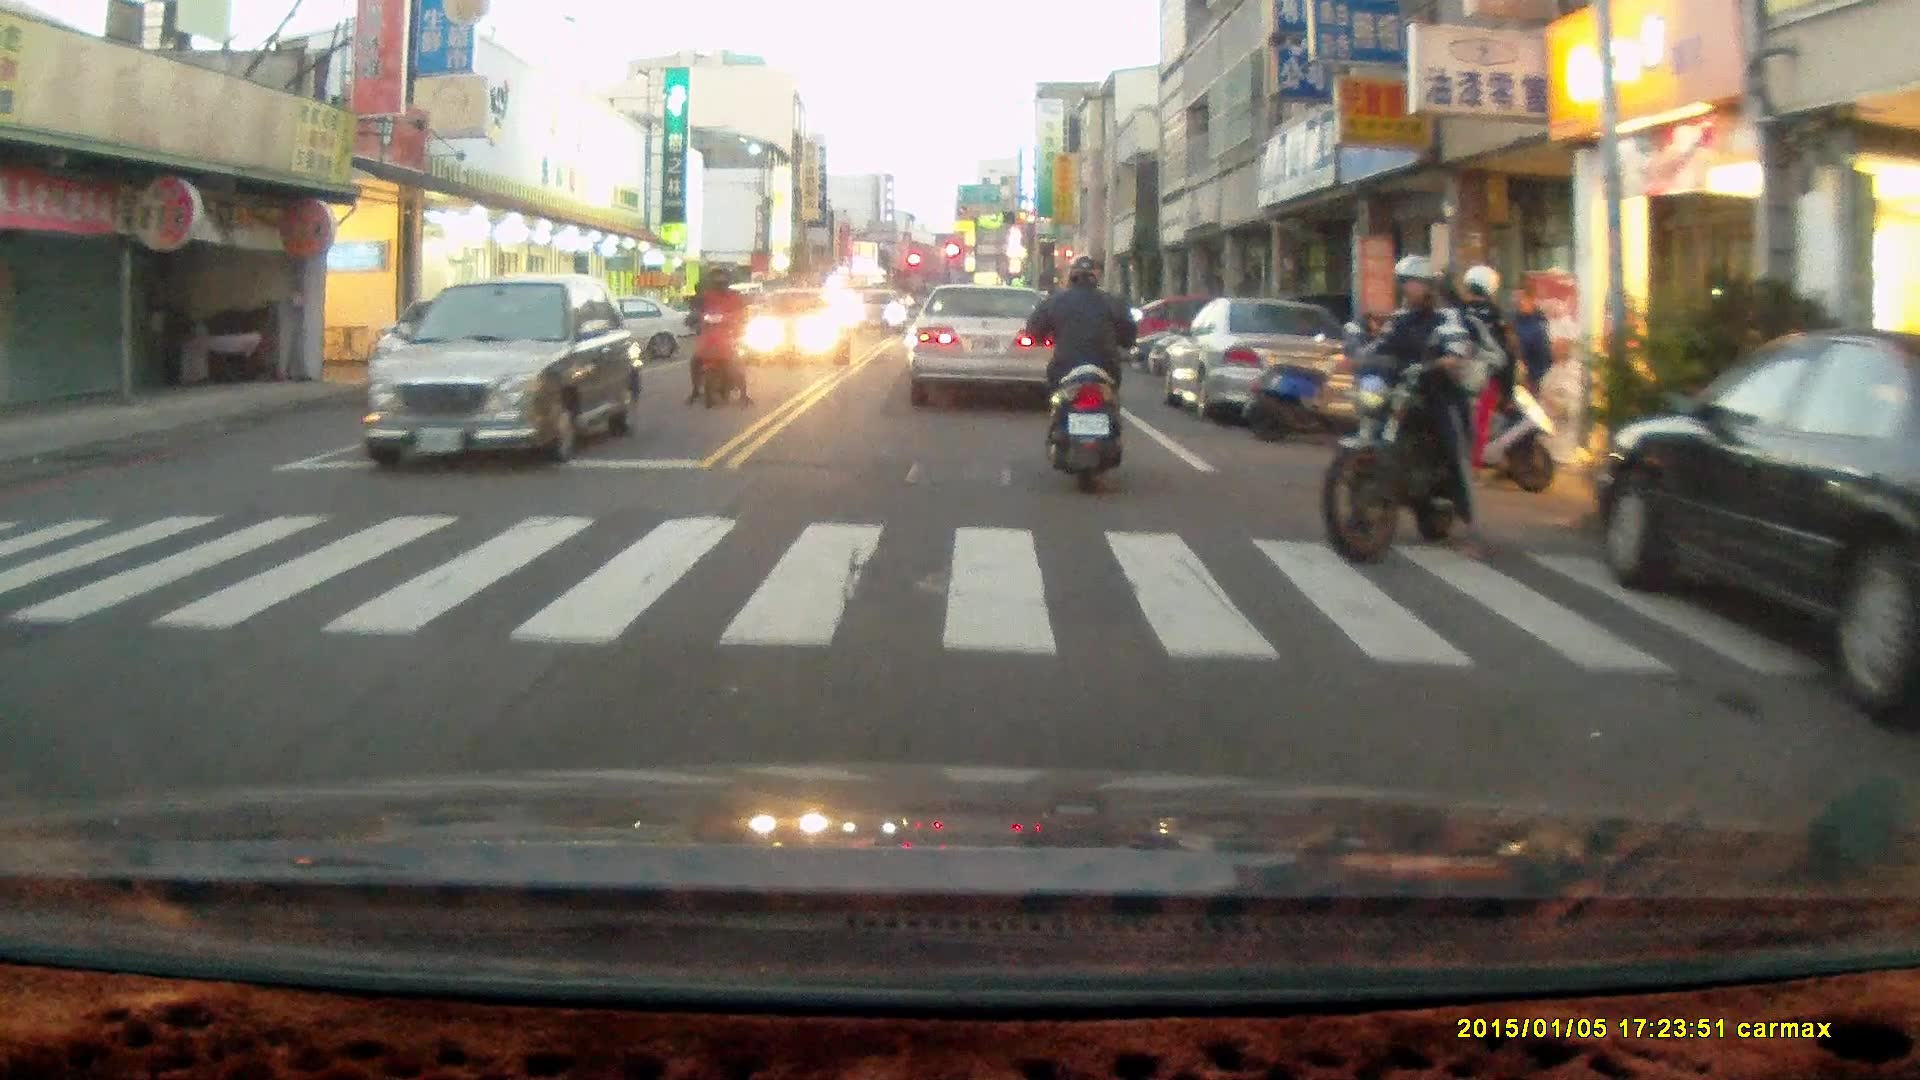pedestrian: (1441, 265, 1510, 490), (1504, 283, 1552, 462)
rider: (1318, 255, 1485, 562), (1024, 252, 1141, 494), (683, 260, 752, 411)
vehicle: (1594, 325, 1920, 726), (367, 275, 645, 473), (1167, 302, 1363, 430), (910, 287, 1065, 407), (736, 287, 846, 369)
